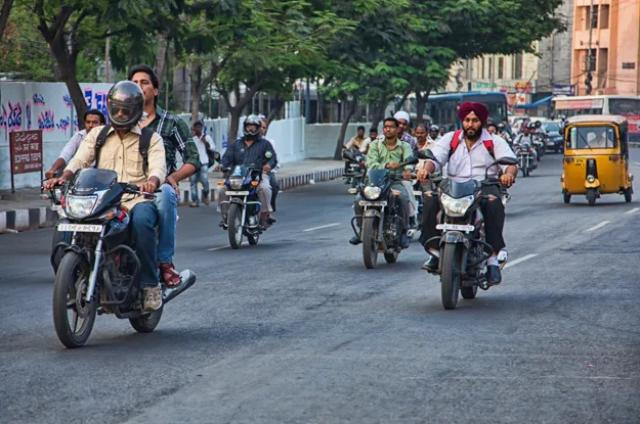bike: (37, 162, 185, 358), (424, 168, 516, 310), (349, 157, 418, 267), (210, 158, 286, 246)
